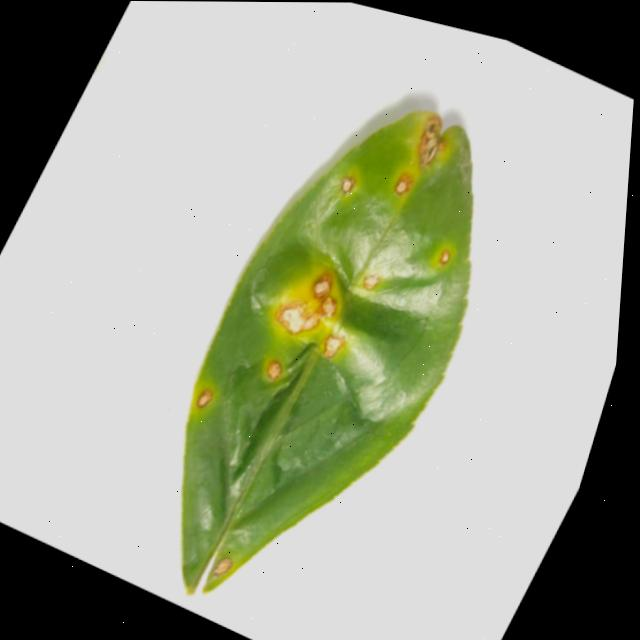antracnose: (181, 109, 473, 592), (276, 301, 320, 333), (418, 115, 443, 165), (323, 335, 345, 357), (312, 275, 330, 297), (394, 172, 412, 194), (213, 557, 232, 575), (320, 295, 336, 315), (267, 359, 281, 379), (339, 175, 355, 192), (363, 273, 380, 289), (197, 389, 212, 406), (438, 248, 450, 264)
